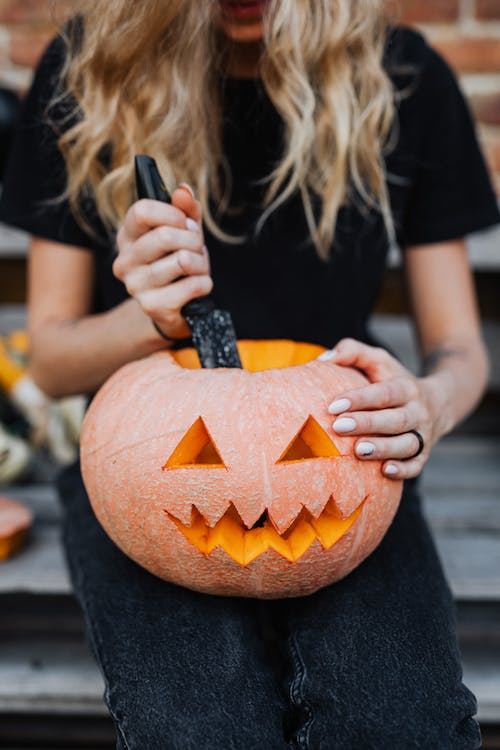knife: (131, 151, 244, 372)
